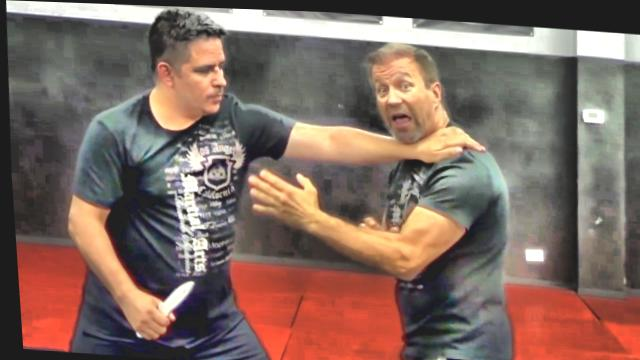knife: (126, 271, 195, 343)
